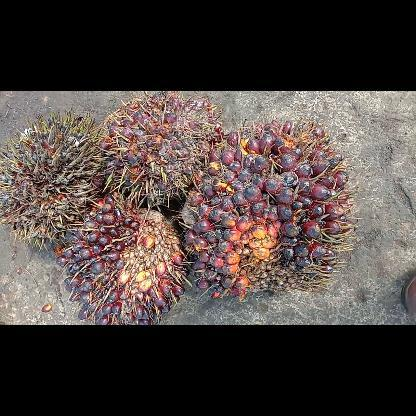Kurang masak: (54, 196, 184, 324), (101, 91, 220, 207)
TBS abnormal: (0, 112, 109, 244)
TBS masak: (183, 120, 357, 300)
